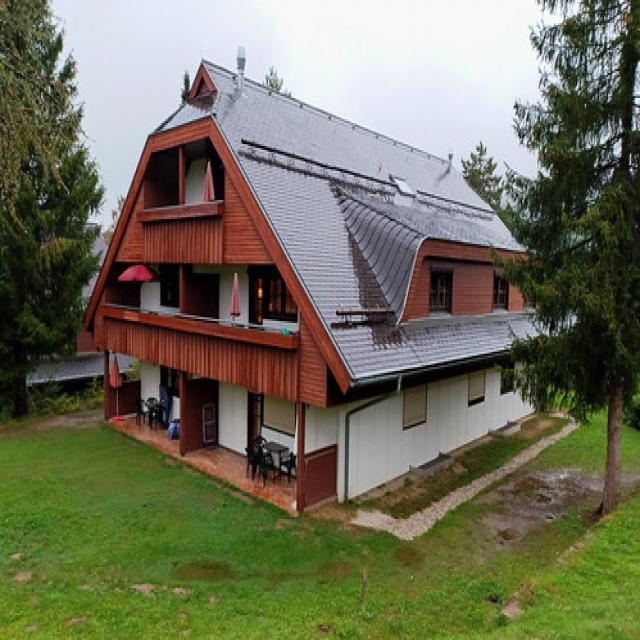Normal_building: (81, 57, 577, 526)
